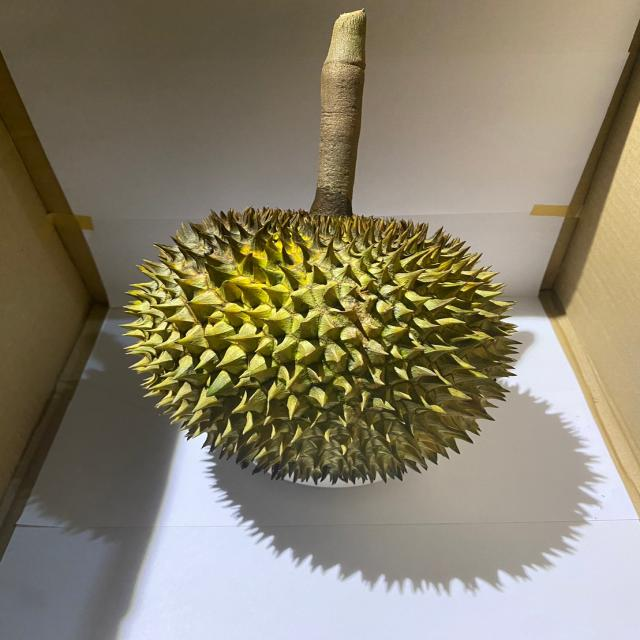immature: (128, 205, 520, 487)
